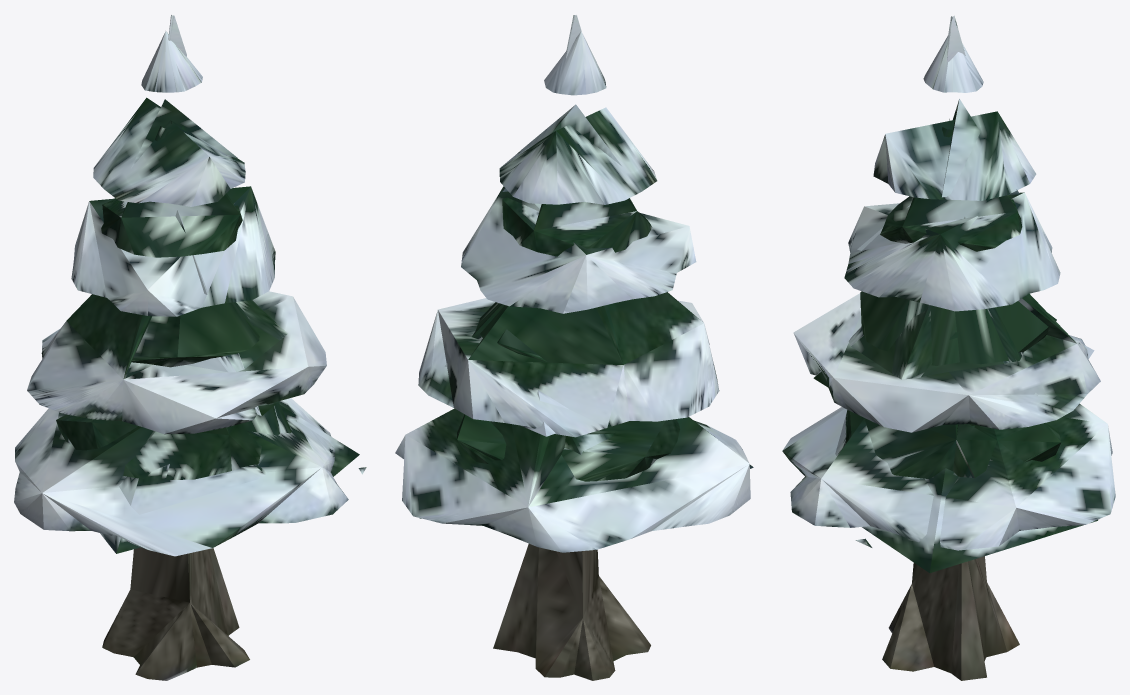
The model's file is snow_pine.glb.
The picture shows the model from 3 angles, left to right: view 1: azimuth 30°, elevation 25°; view 2: azimuth 150°, elevation 25°; view 3: azimuth 270°, elevation 25°; orthographic projection.
Parts seen in each view (by area): view 1: Mesh; view 2: Mesh; view 3: Mesh.
Part boxes in pixels (x1,y1,x2,y2): Mesh: (14,15,366,680); Mesh: (395,15,753,680); Mesh: (782,15,1115,680).
Size of the model in its own units: 0.5265 by 0.9692 by 0.4639.
Materials: 1 (1 with a texture image).
